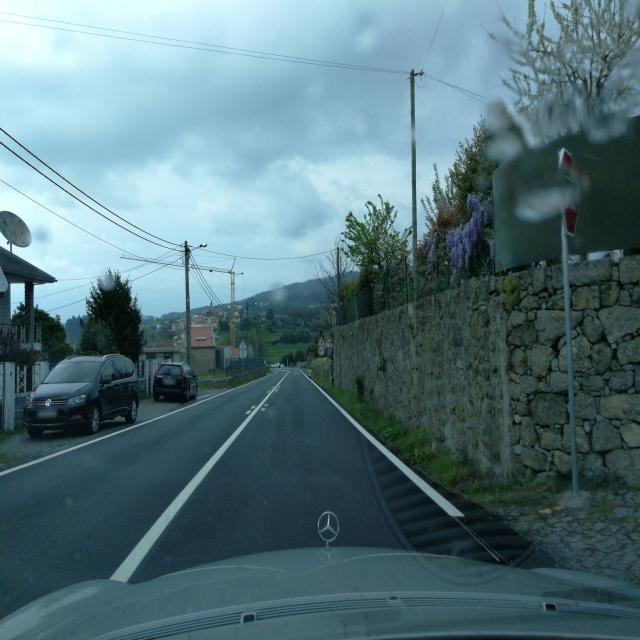car: (22, 353, 140, 438), (153, 362, 199, 402)
